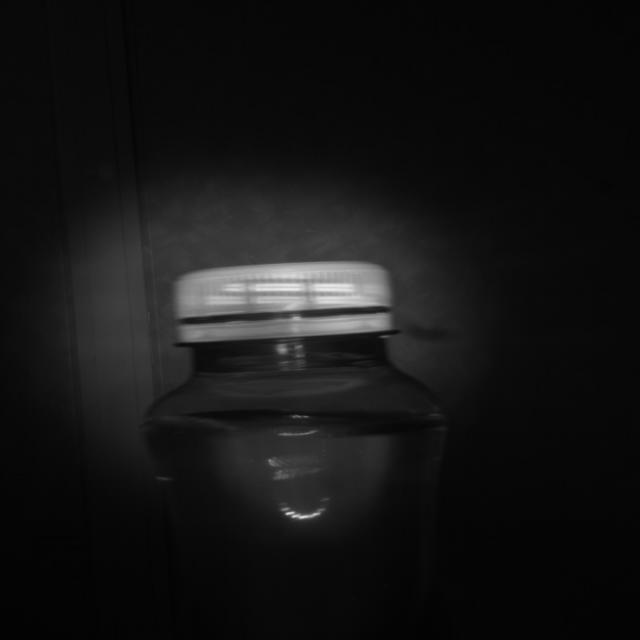Not Good: (174, 258, 393, 346)
